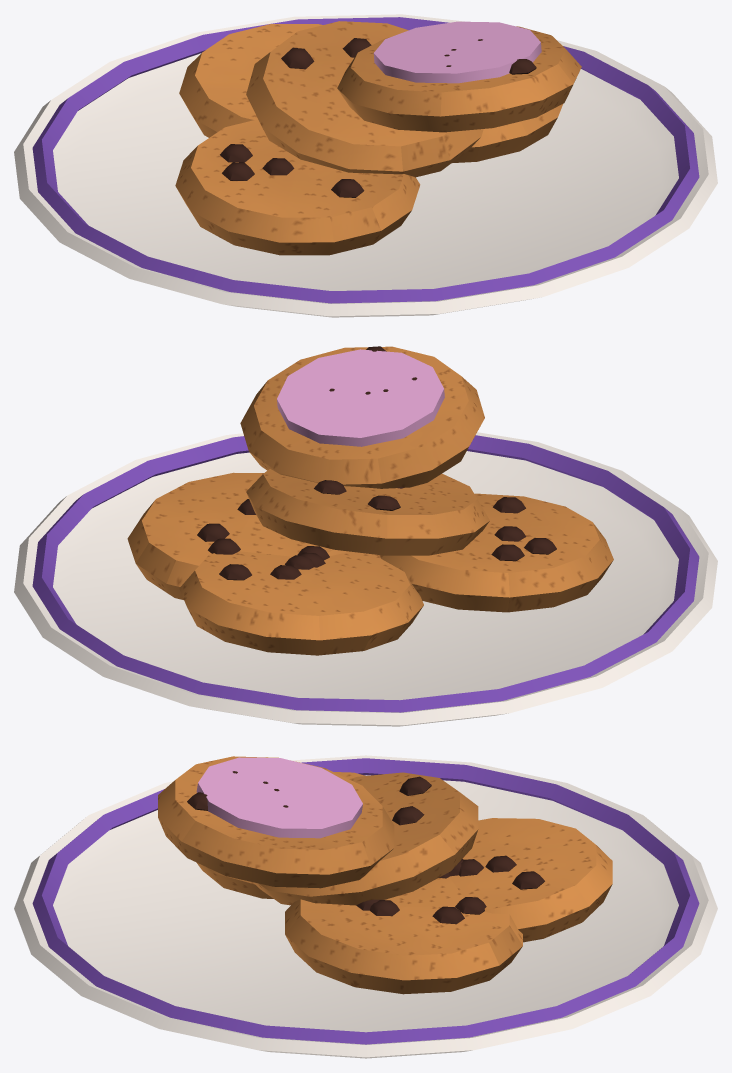
File: Cookie_Plate.fbx
The picture shows the model from 3 angles, top to bottom: view 1: azimuth 30°, elevation 25°; view 2: azimuth 150°, elevation 25°; view 3: azimuth 270°, elevation 25°; orthographic projection.
Visible parts, largest first — view 1: Cookie_Plate_Plate, Cookie_Plate_Cookies; view 2: Cookie_Plate_Plate, Cookie_Plate_Cookies; view 3: Cookie_Plate_Plate, Cookie_Plate_Cookies.
Part boxes in pixels (x1,y1,x2,y2): Cookie_Plate_Plate: (14, 14, 717, 317); Cookie_Plate_Cookies: (175, 21, 581, 255); Cookie_Plate_Plate: (14, 432, 717, 726); Cookie_Plate_Cookies: (127, 346, 613, 655); Cookie_Plate_Plate: (14, 755, 717, 1058); Cookie_Plate_Cookies: (158, 756, 612, 994).
Size of the model in its own units: 0.38 by 0.119 by 0.38.
